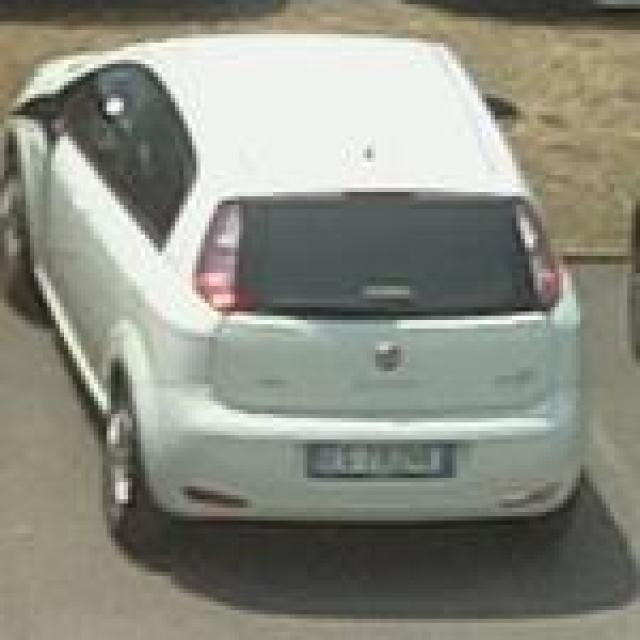cars-sUYr: (0, 24, 640, 567)
